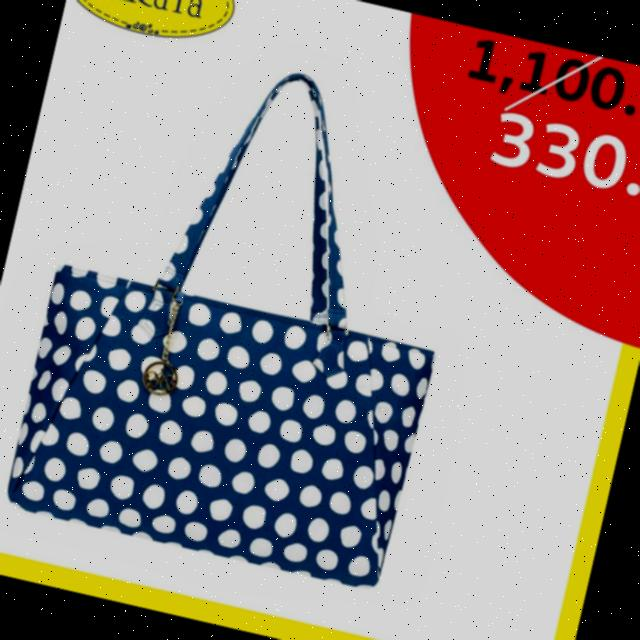Handbag: (7, 73, 433, 587)
